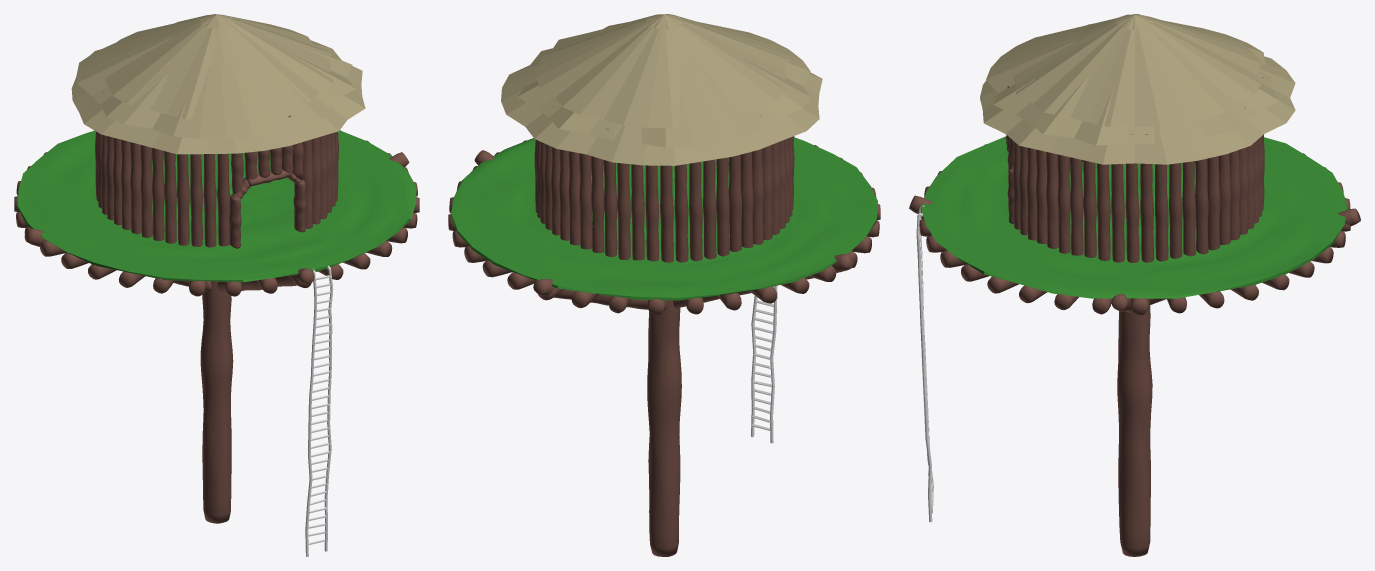
The model's file is Monkey Disco Base parte derecha model test 1.fbx.
The picture shows the model from 3 angles, left to right: view 1: azimuth 30°, elevation 25°; view 2: azimuth 150°, elevation 25°; view 3: azimuth 270°, elevation 25°; orthographic projection. The views are drawn at different scales.
Visible parts, largest first — view 1: HutRoof, HutFloorPadding, HutWalls, HutStand, LeavesFloor, Ladder; view 2: HutRoof, HutFloorPadding, HutWalls, HutStand, LeavesFloor, Ladder; view 3: HutRoof, HutFloorPadding, HutWalls, HutStand, LeavesFloor, Ladder.
Part boxes in pixels (x1=…): HutRoof: x1=71, y1=14, x2=365, y2=154; HutFloorPadding: x1=18, y1=130, x2=416, y2=282; HutWalls: x1=95, y1=92, x2=338, y2=248; HutStand: x1=24, y1=152, x2=409, y2=523; LeavesFloor: x1=14, y1=130, x2=419, y2=296; Ladder: x1=305, y1=265, x2=333, y2=556; HutRoof: x1=501, y1=14, x2=822, y2=165; HutFloorPadding: x1=451, y1=137, x2=877, y2=300; HutWalls: x1=534, y1=107, x2=794, y2=262; HutStand: x1=474, y1=136, x2=854, y2=556; LeavesFloor: x1=448, y1=140, x2=880, y2=315; Ladder: x1=751, y1=285, x2=777, y2=443; HutRoof: x1=980, y1=14, x2=1295, y2=164; HutFloorPadding: x1=920, y1=136, x2=1348, y2=298; HutWalls: x1=1005, y1=77, x2=1264, y2=262; HutStand: x1=909, y1=195, x2=1360, y2=556; LeavesFloor: x1=919, y1=144, x2=1350, y2=315; Ladder: x1=916, y1=205, x2=933, y2=522.
Bounding box in the file's own units: 1020 × 1020 × 1337.
